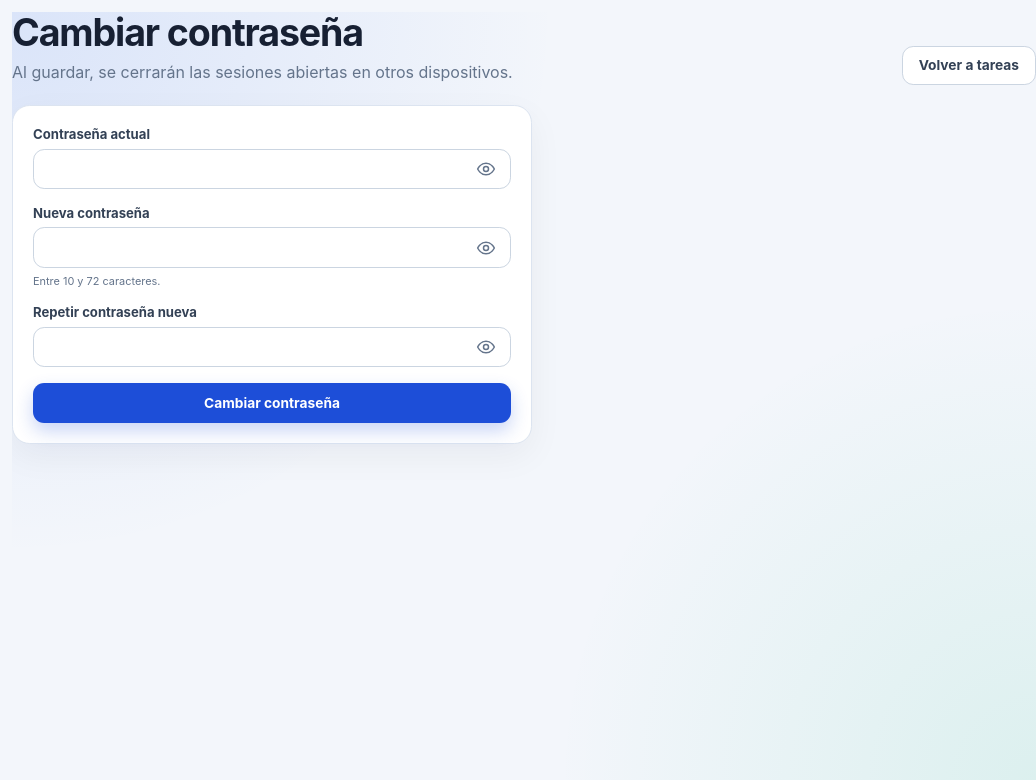
ChangePasswordPage › valida campos requeridos y contraseñas diferentes
Click the button "Cambiar contraseña" at [272, 403], box [33,383,511,423]
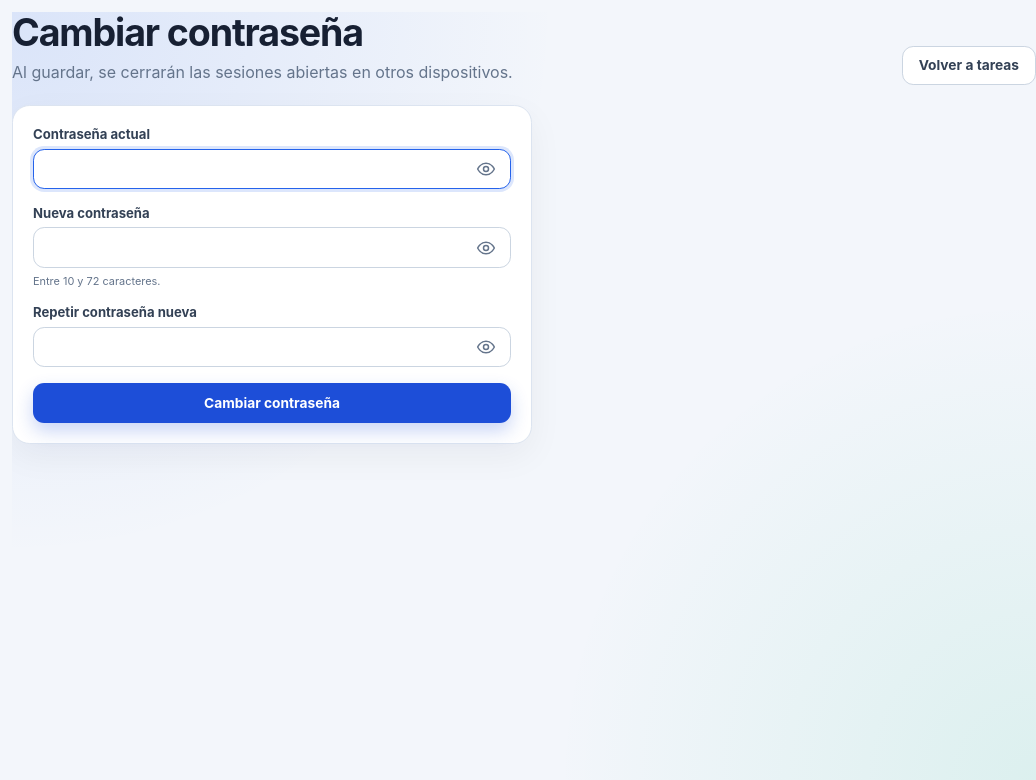
Type "actual123" into the password field labelled "Contraseña actual" at [272, 169], box [33,149,511,189]
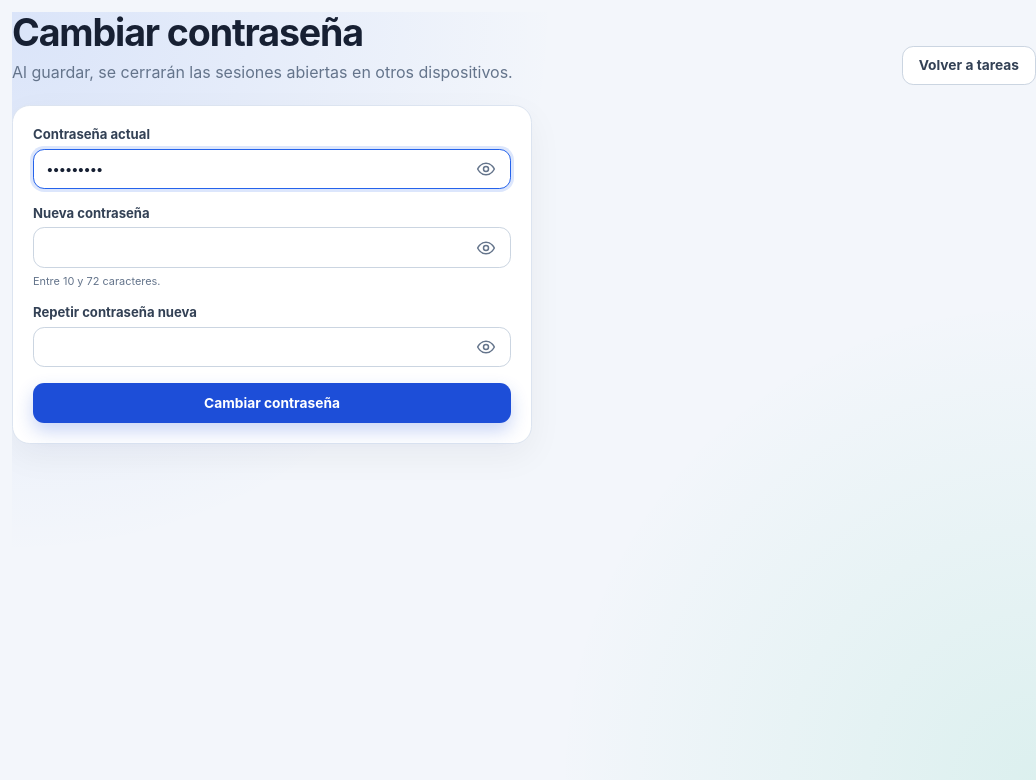
Type "password123" into the password field labelled "Nueva contraseña Entre 10 y 72 caracteres." at [272, 248], box [33,228,511,268]
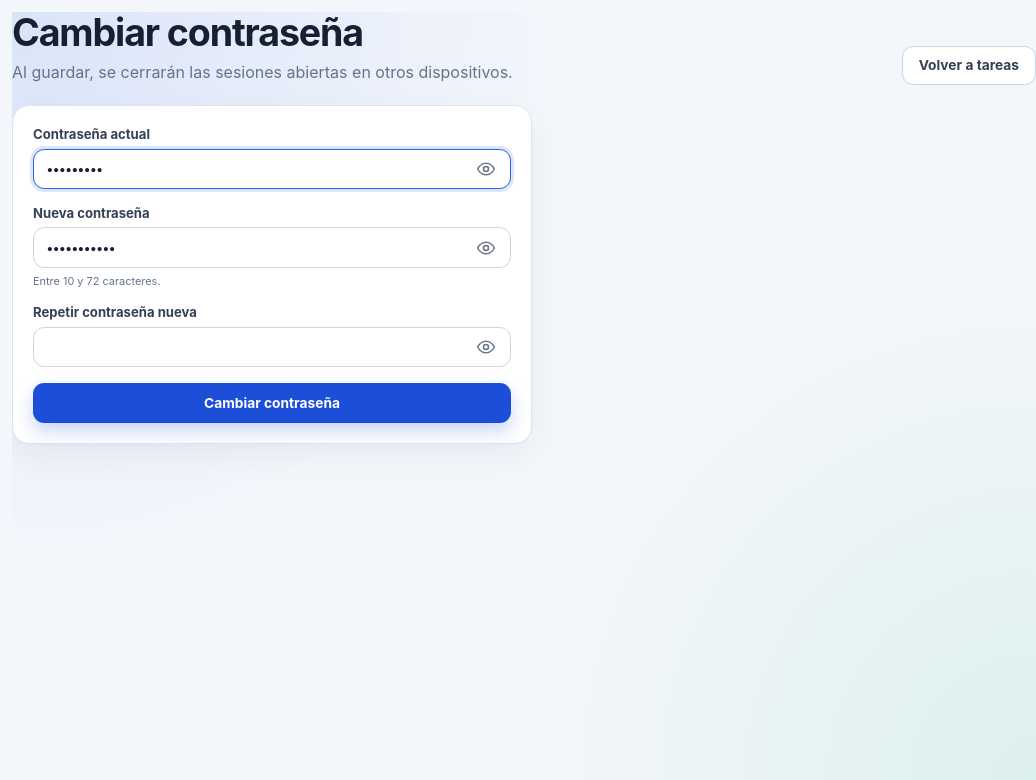
Type "diferente123" into the password field labelled "Repetir contraseña nueva" at [272, 347], box [33,327,511,367]
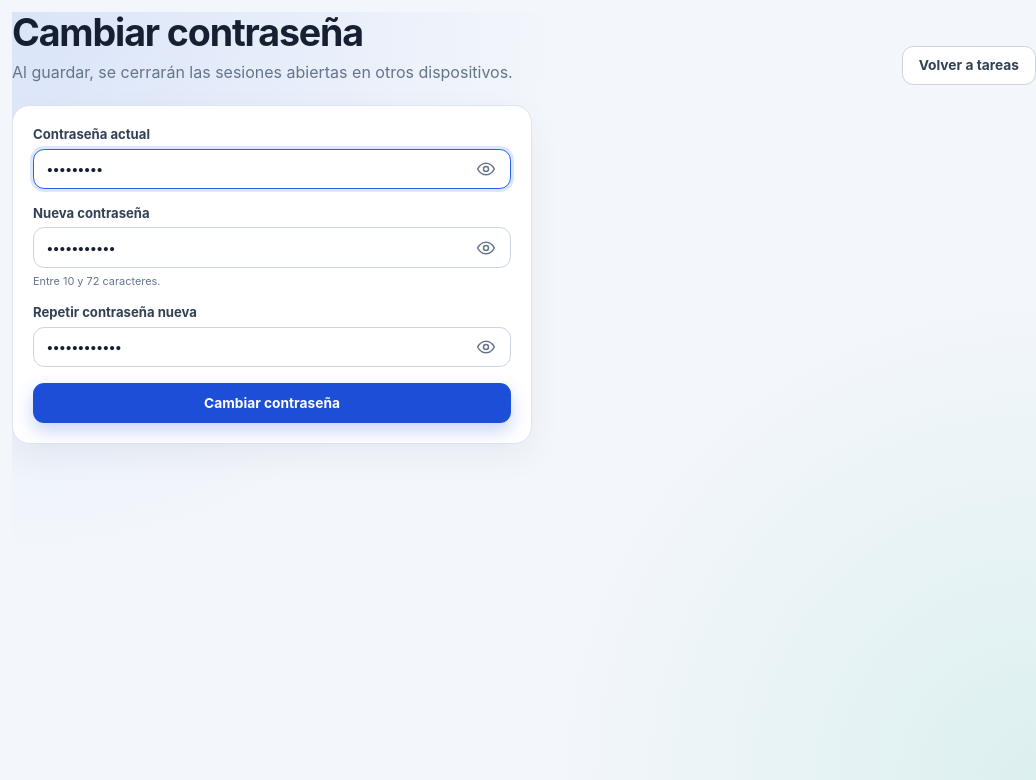
Click the button "Cambiar contraseña" at [272, 403], box [33,383,511,423]
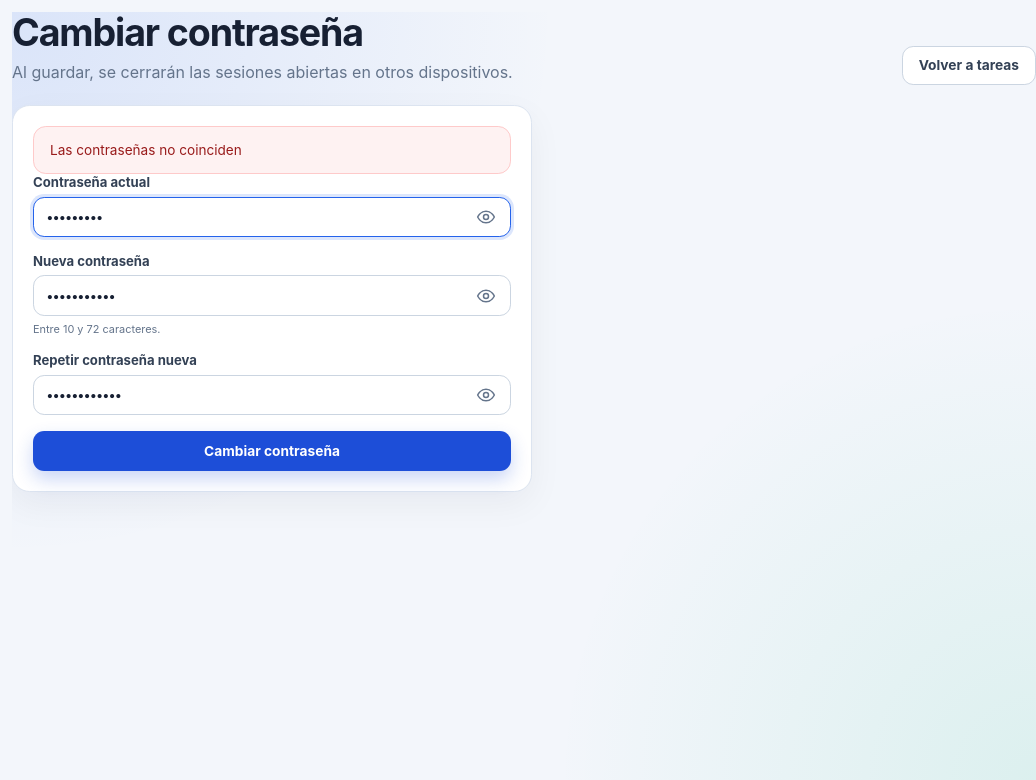
Result: the message reads "Las contraseñas no coinciden" at [50,142,242,158]
